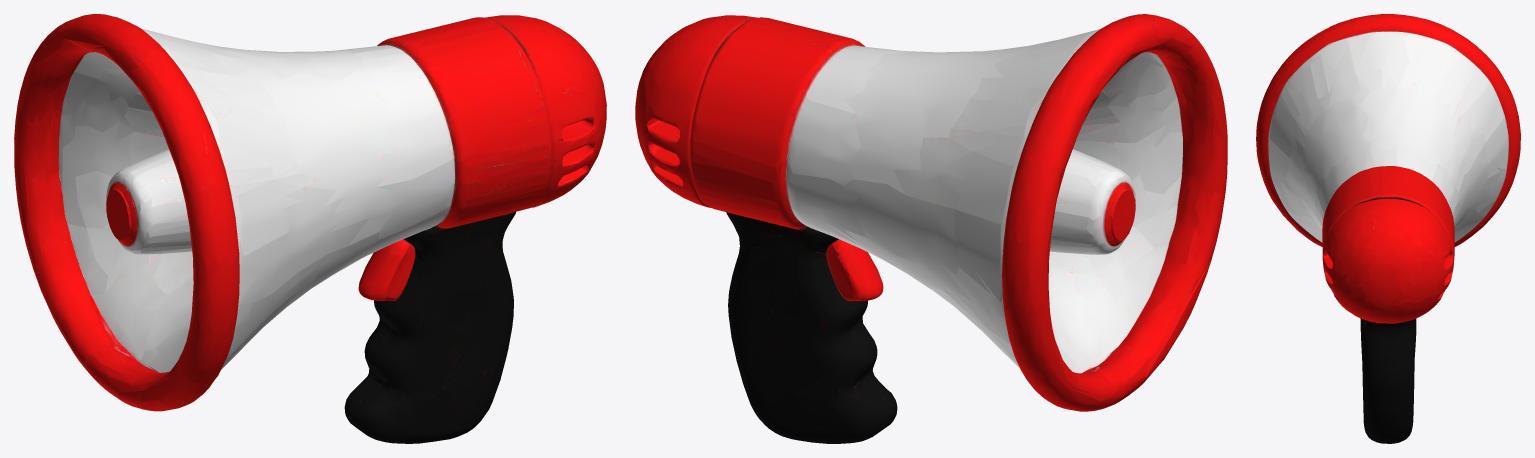
File: megafone.glb
The picture shows the model from 3 angles, left to right: view 1: azimuth 30°, elevation 25°; view 2: azimuth 150°, elevation 25°; view 3: azimuth 270°, elevation 25°; orthographic projection. The views are drawn at different scales.
Parts seen in each view (by area): view 1: output_unwrapped; view 2: output_unwrapped; view 3: output_unwrapped.
Part boxes in pixels (bbox=[...]): output_unwrapped: bbox=[14, 14, 606, 443]; output_unwrapped: bbox=[635, 14, 1227, 443]; output_unwrapped: bbox=[1256, 14, 1520, 443].
Size of the model in its own units: 1.9 by 1.8 by 1.34.
1 material, 1 textured.
